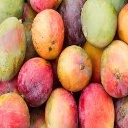mango: (0, 18, 26, 83)
